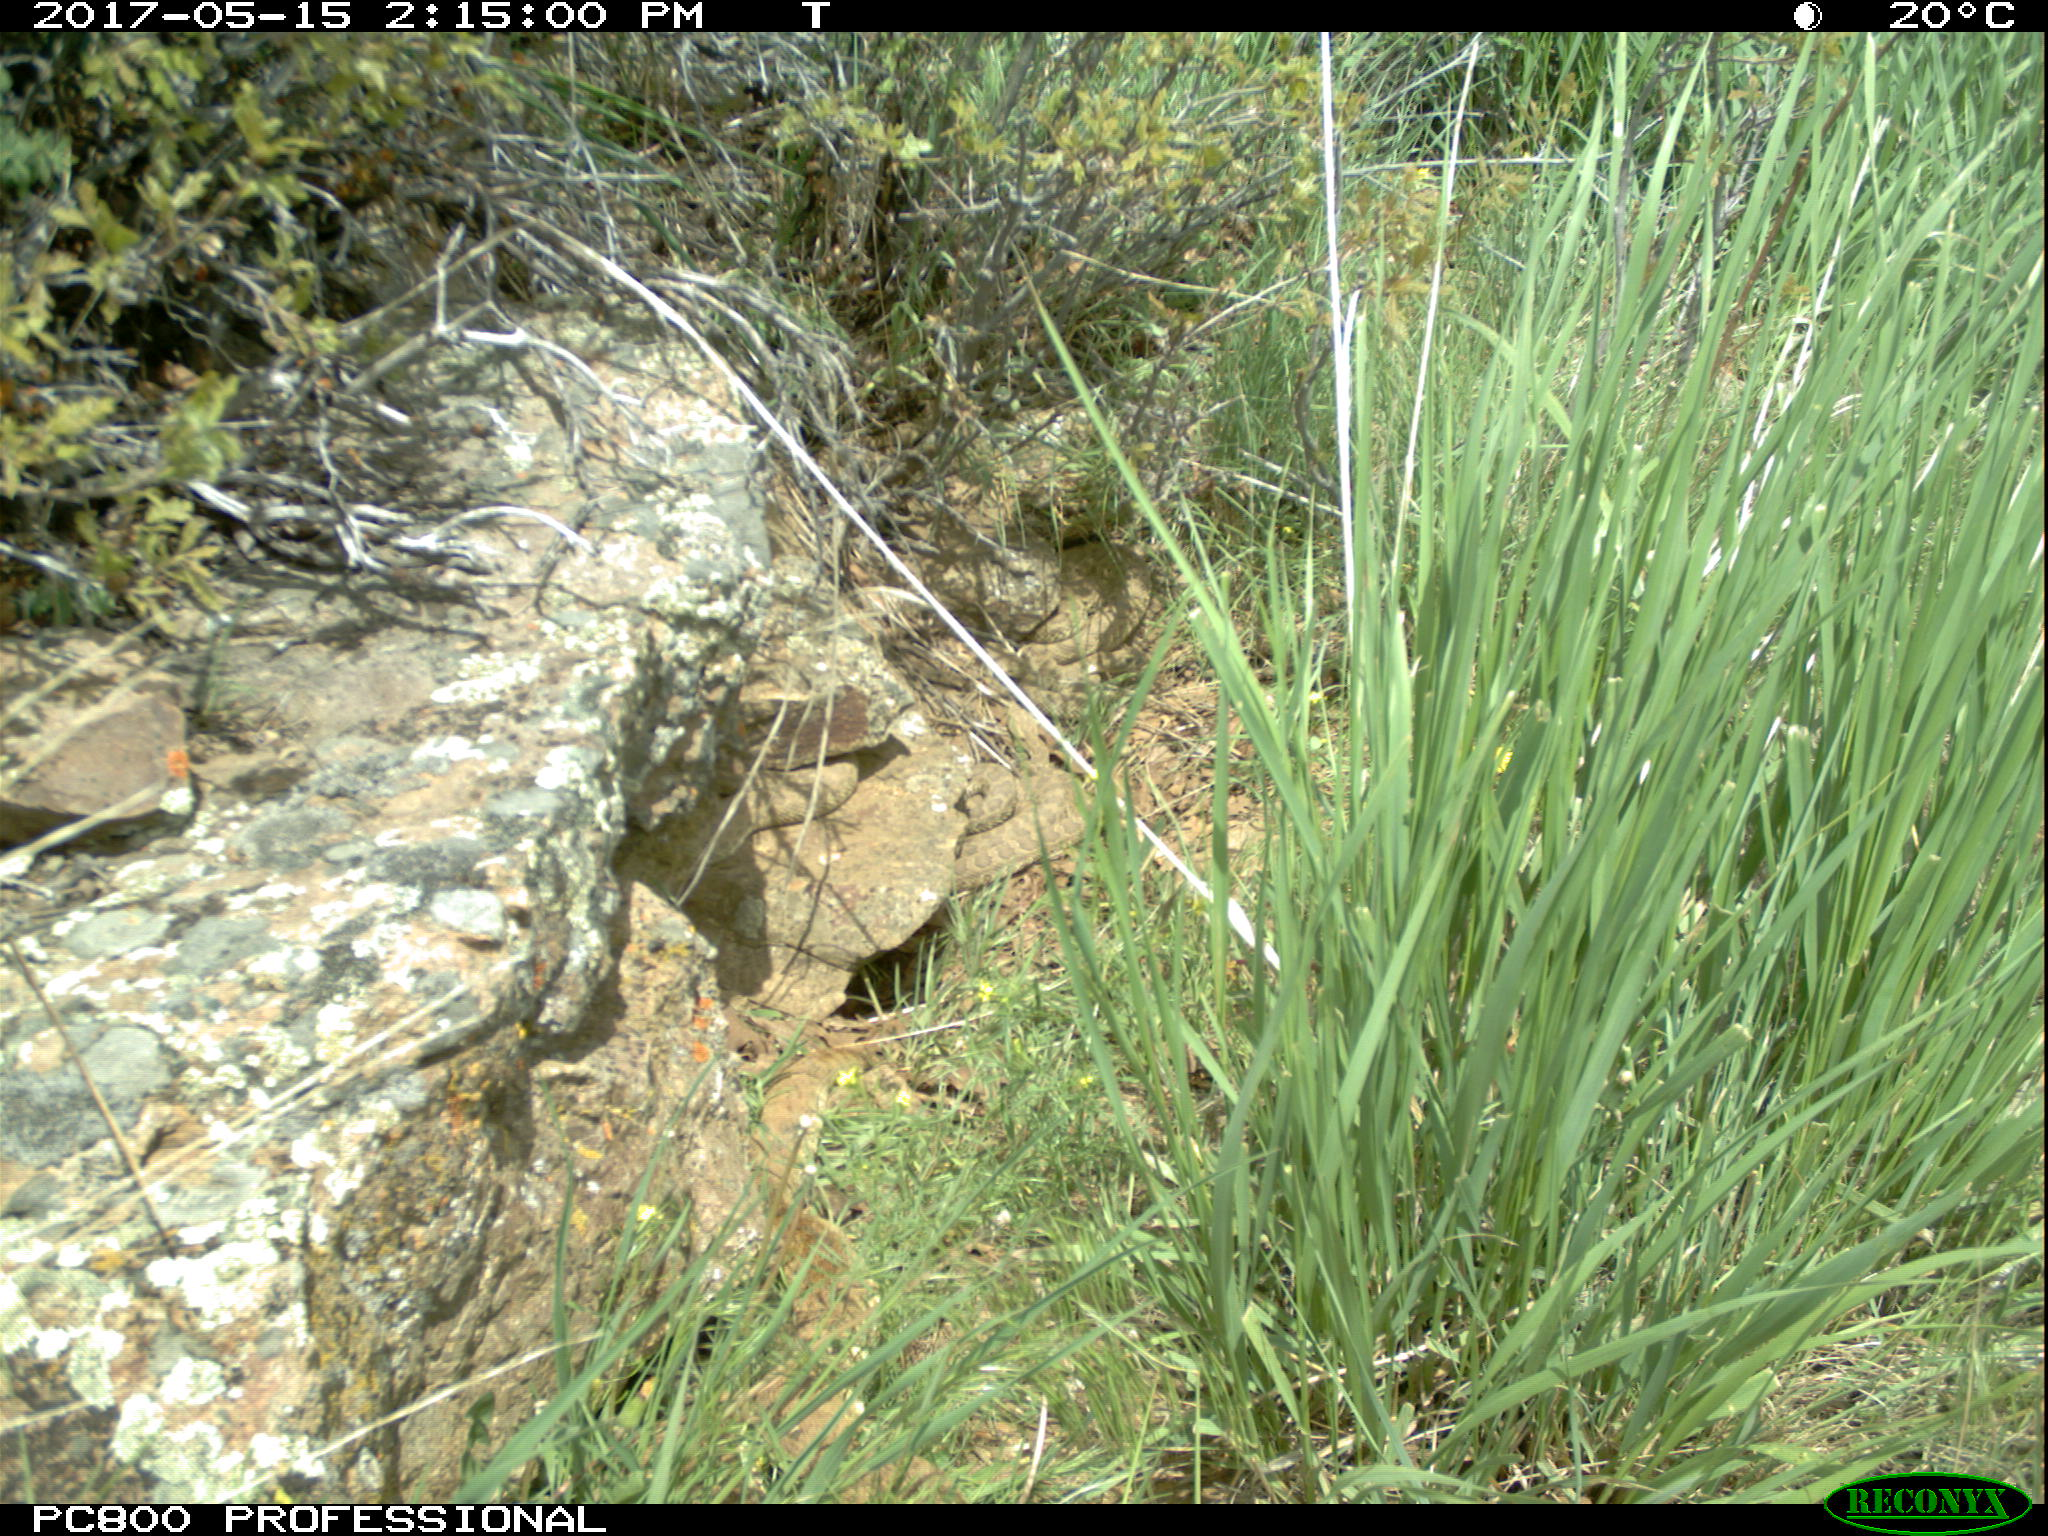snake: (748, 1046, 861, 1421), (1014, 541, 1147, 724), (676, 753, 861, 862), (956, 760, 1077, 887)
